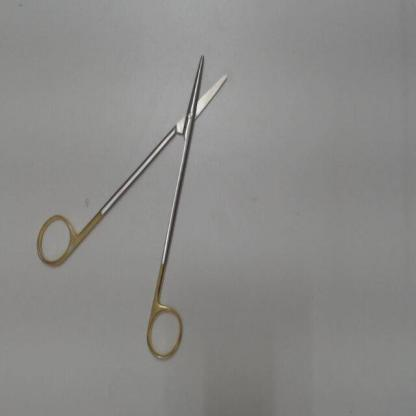7 Metzenbaum Scissors: (31, 50, 232, 370)
